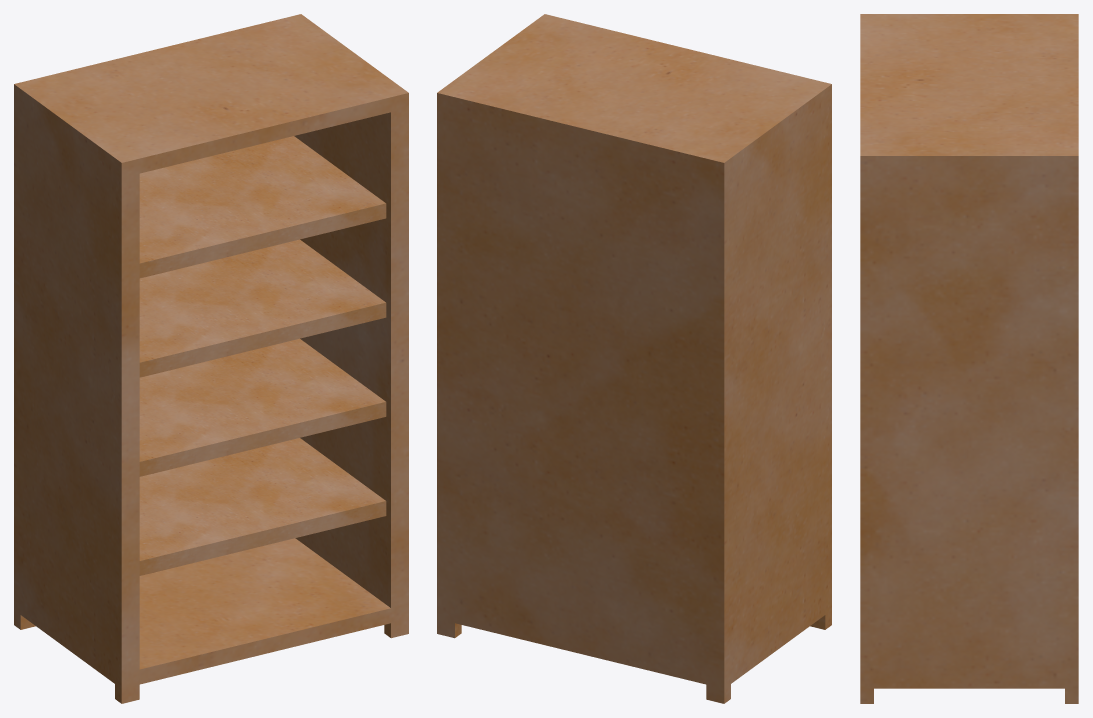
File: TallShelf.fbx
3 renders of one model, left to right at view 1: azimuth 30°, elevation 25°; view 2: azimuth 150°, elevation 25°; view 3: azimuth 270°, elevation 25°, orthographic.
Parts seen in each view (by area): view 1: TallShelf; view 2: TallShelf; view 3: TallShelf.
Boxes of the visible parts, x1,y1,x2,y2 form: TallShelf: (14, 14, 408, 703); TallShelf: (437, 14, 831, 703); TallShelf: (860, 14, 1078, 703).
Size of the model in its own units: 1 by 1.8 by 0.65.
